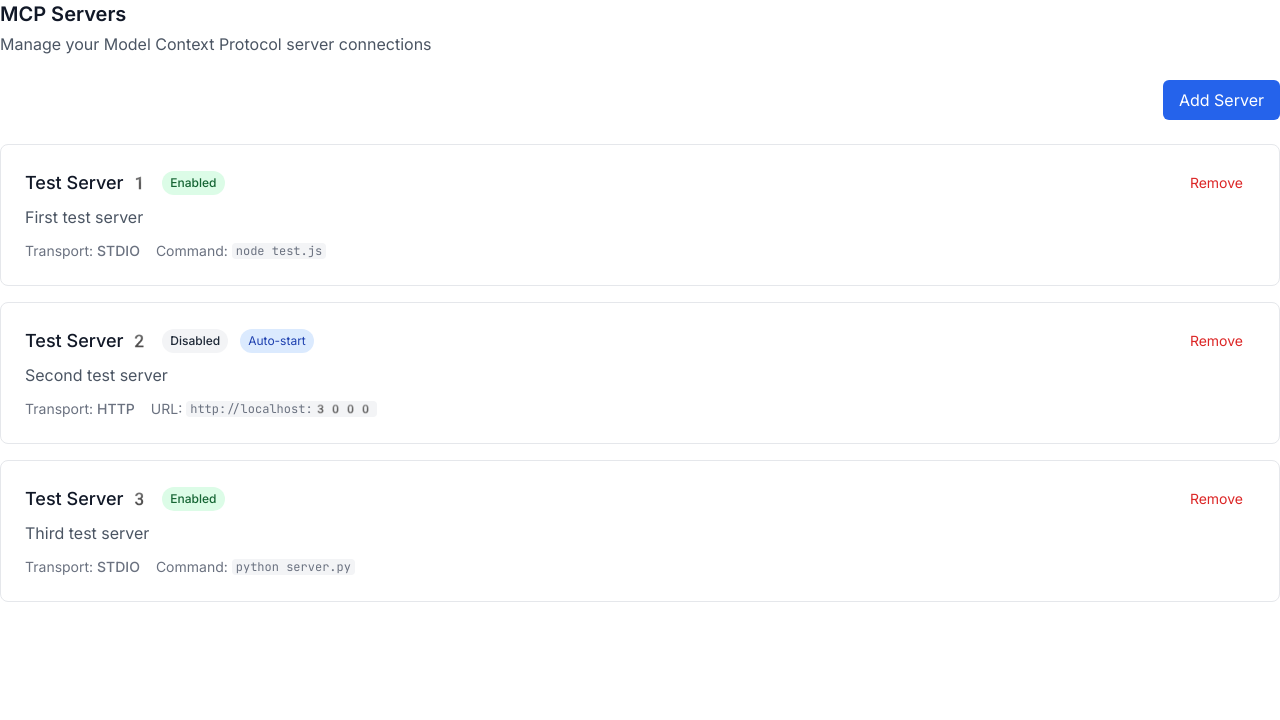
Test: McpIntegration › Server Wizard Integration › opens server wizard when add server button is clicked
The width and height of the screenshot is (1280, 720).
Expected: the heading "Test Server 1" is shown, [25,169,150,197]
Step 1. Click the button "Add Server" → (1222, 100), box [1163,80,1279,120]
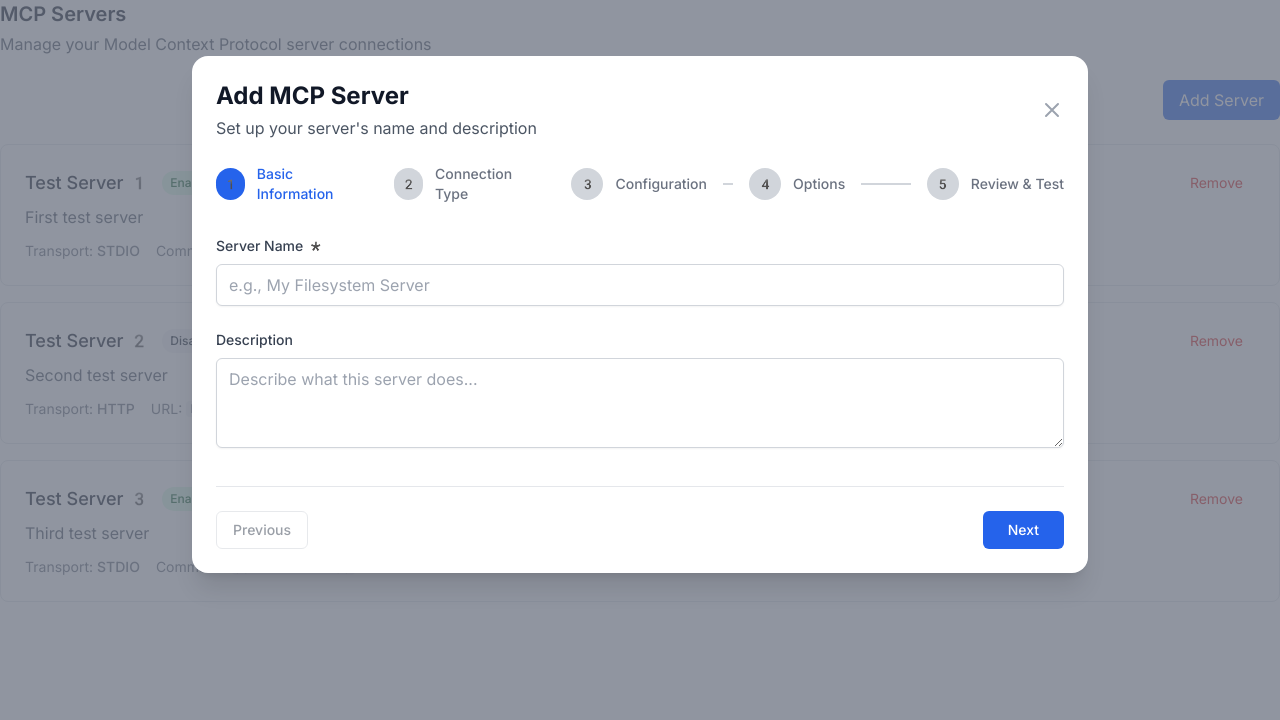
Expected: the heading "Add MCP Server" is shown, [216,81,409,110]
